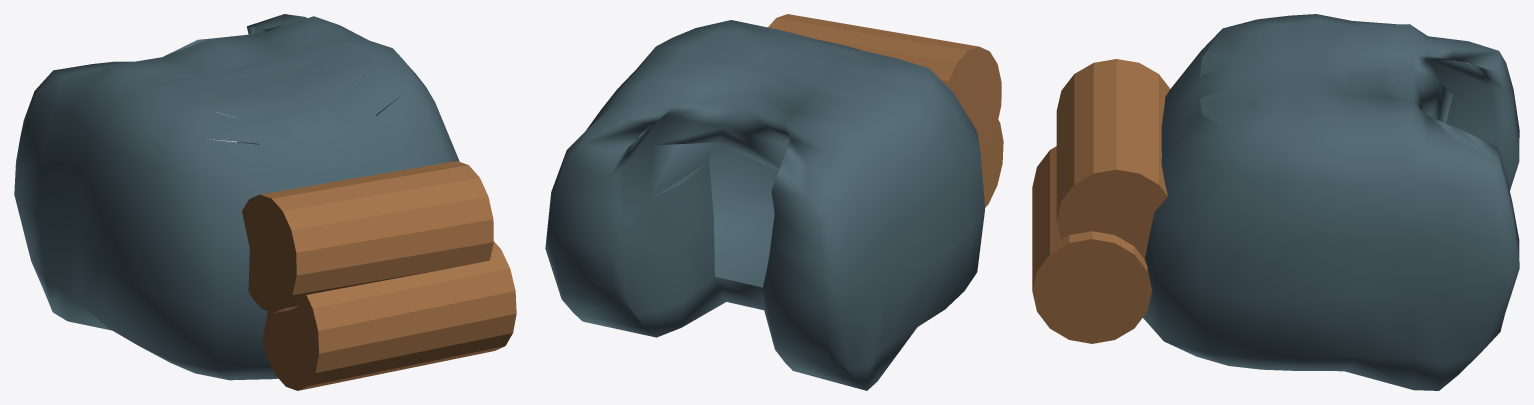
The model's file is CabBaggage.fbx.
The picture shows the model from 3 angles, left to right: view 1: azimuth 30°, elevation 25°; view 2: azimuth 150°, elevation 25°; view 3: azimuth 270°, elevation 25°; orthographic projection. The views are drawn at different scales.
Visible parts, largest first — view 1: Baggage, BaggageBox; view 2: Baggage, BaggageBox; view 3: Baggage, BaggageBox.
Part boxes in pixels (x1,y1,x2,y2): Baggage: [14, 14, 459, 380]; BaggageBox: [242, 161, 516, 390]; Baggage: [545, 20, 984, 390]; BaggageBox: [768, 14, 1003, 207]; Baggage: [1143, 14, 1519, 390]; BaggageBox: [1032, 59, 1170, 343].
Bounding box in the file's own units: 254 × 187 × 326.
